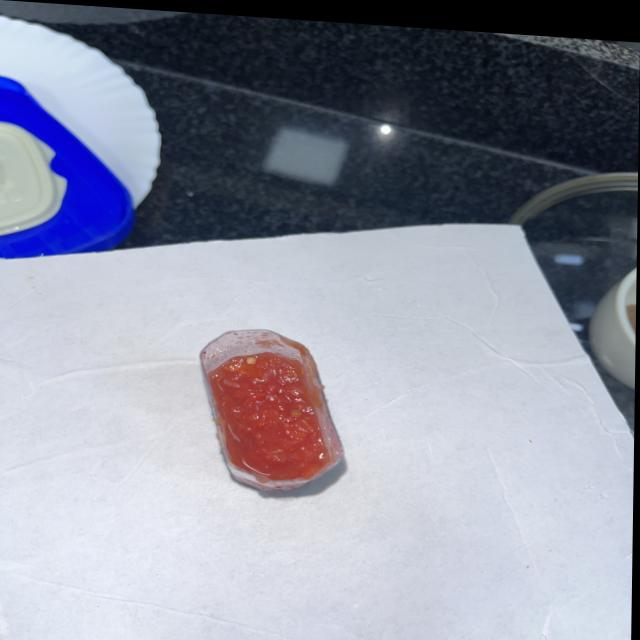blended_pepper: (208, 345, 336, 484)
